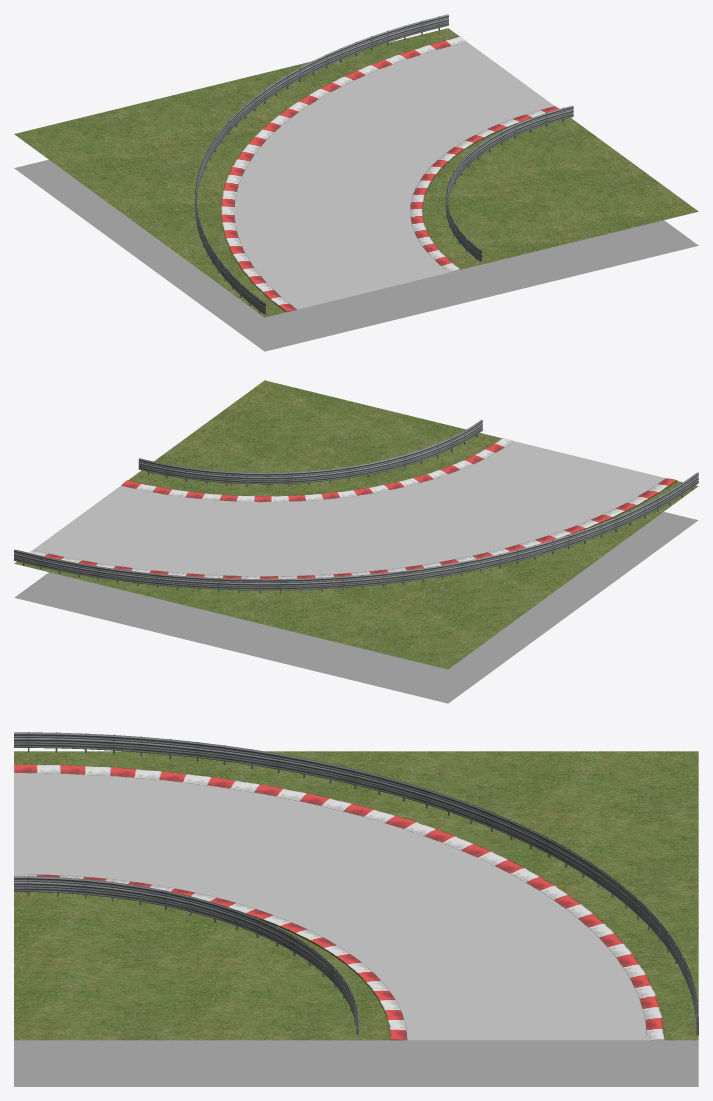
File: Track_Curve_A.fbx
The picture shows the model from 3 angles, top to bottom: view 1: azimuth 30°, elevation 25°; view 2: azimuth 150°, elevation 25°; view 3: azimuth 270°, elevation 25°; orthographic projection. The views are drawn at different scales.
Visible parts, largest first — view 1: Grass, Road, Snap_Plane_Invisible, Curb_A, Rail_A, Curb_B, Rail_B; view 2: Grass, Road, Snap_Plane_Invisible, Rail_A, Rail_B, Curb_A, Curb_B; view 3: Grass, Road, Snap_Plane_Invisible, Rail_A, Curb_A, Rail_B, Curb_B.
Boxes of the visible parts, box(x1,y1,x2,y2) form: Grass: box(14, 28, 698, 317); Road: box(234, 42, 554, 309); Snap_Plane_Invisible: box(14, 159, 698, 351); Curb_A: box(221, 36, 466, 312); Rail_A: box(195, 14, 448, 314); Curb_B: box(410, 106, 559, 272); Rail_B: box(446, 105, 573, 261); Grass: box(14, 380, 698, 669); Road: box(33, 441, 665, 576); Snap_Plane_Invisible: box(14, 512, 698, 703); Rail_A: box(14, 472, 698, 593); Rail_B: box(138, 420, 482, 486); Curb_A: box(28, 478, 677, 578); Curb_B: box(121, 437, 513, 502); Grass: box(14, 751, 698, 1040); Road: box(14, 773, 646, 1040); Snap_Plane_Invisible: box(14, 1040, 698, 1086); Rail_A: box(14, 732, 698, 1035); Curb_A: box(14, 764, 664, 1040); Rail_B: box(14, 876, 358, 1035); Curb_B: box(14, 874, 407, 1040).
Size of the model in its own units: 40.03 by 4.24 by 40.04.
